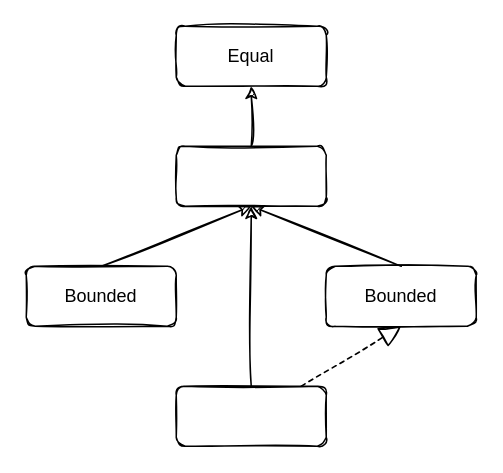
The diagram is 503 pixels wide and 473 high, and some of its shapes have lost their labels. Here are the shapes that lost their labels. From the top down, the centre of each, then its label:
point 250,175: Order
point 250,415: Enum
